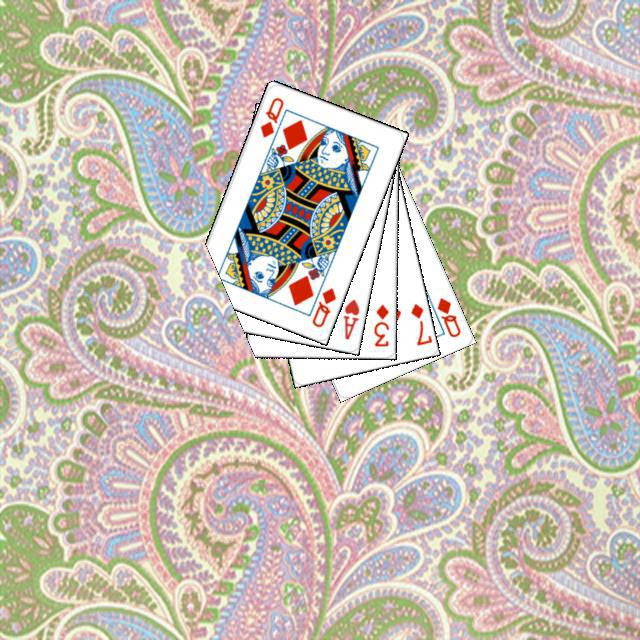3d: (369, 299, 391, 348)
7d: (406, 298, 432, 347)
Ah: (338, 294, 361, 341)
Qd: (255, 92, 286, 140), (432, 293, 463, 339), (307, 283, 338, 329)
